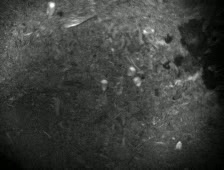corn: (44, 1, 58, 21), (125, 65, 138, 78), (132, 75, 144, 89), (173, 139, 185, 153), (99, 78, 110, 93)
